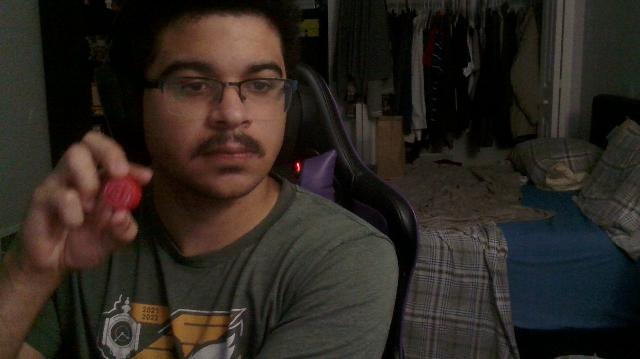cap: (103, 176, 141, 212)
